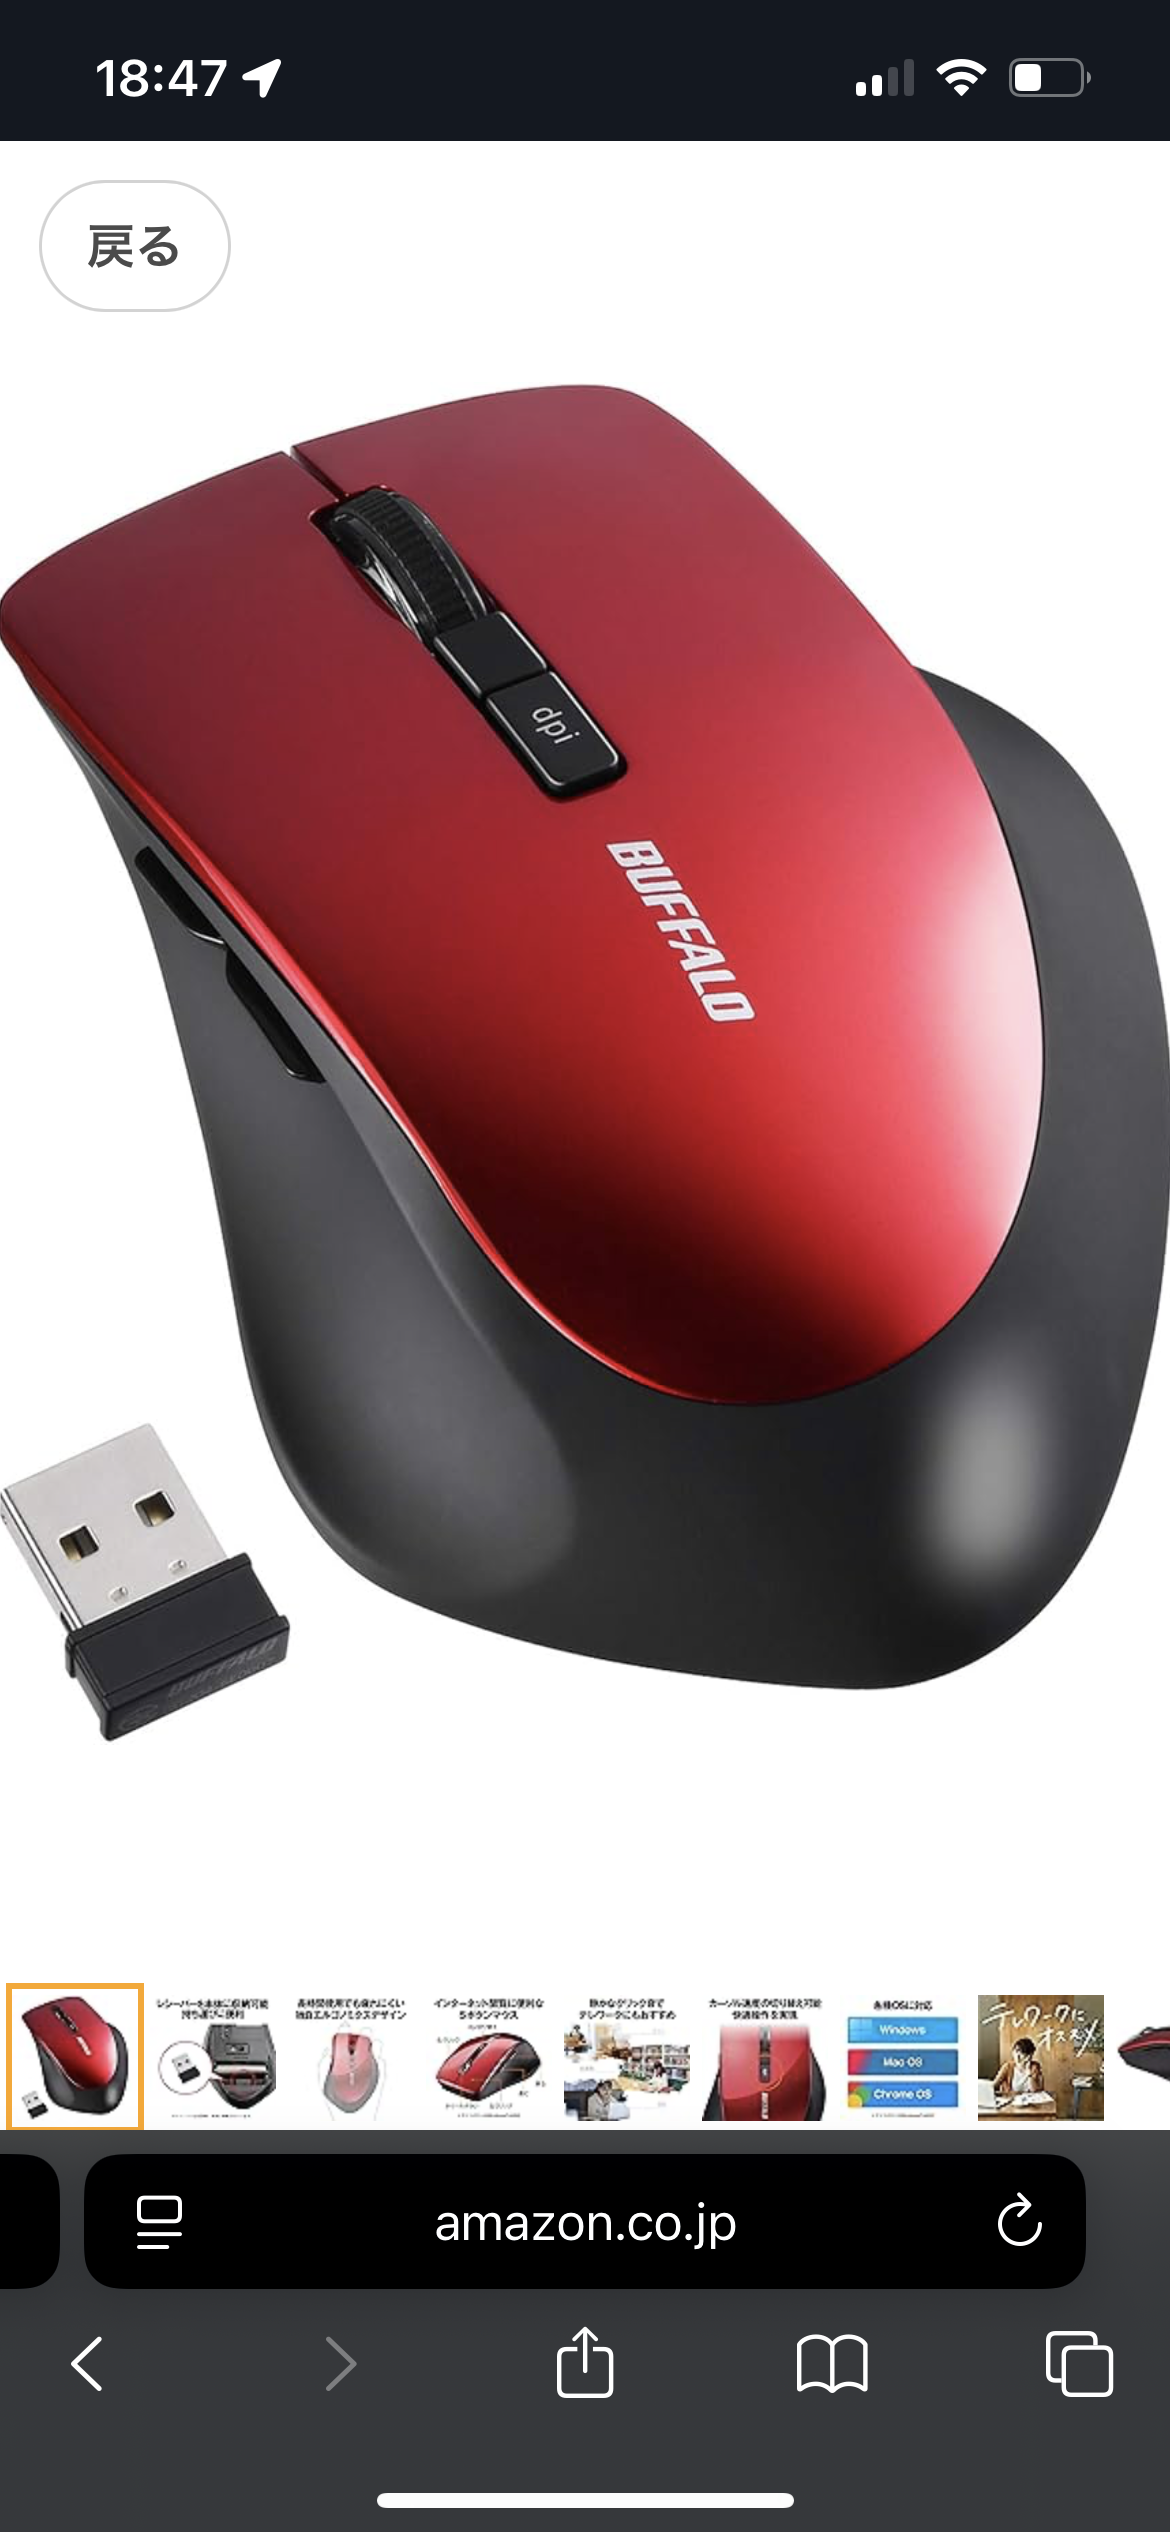mouse: (487, 371, 678, 1697)
